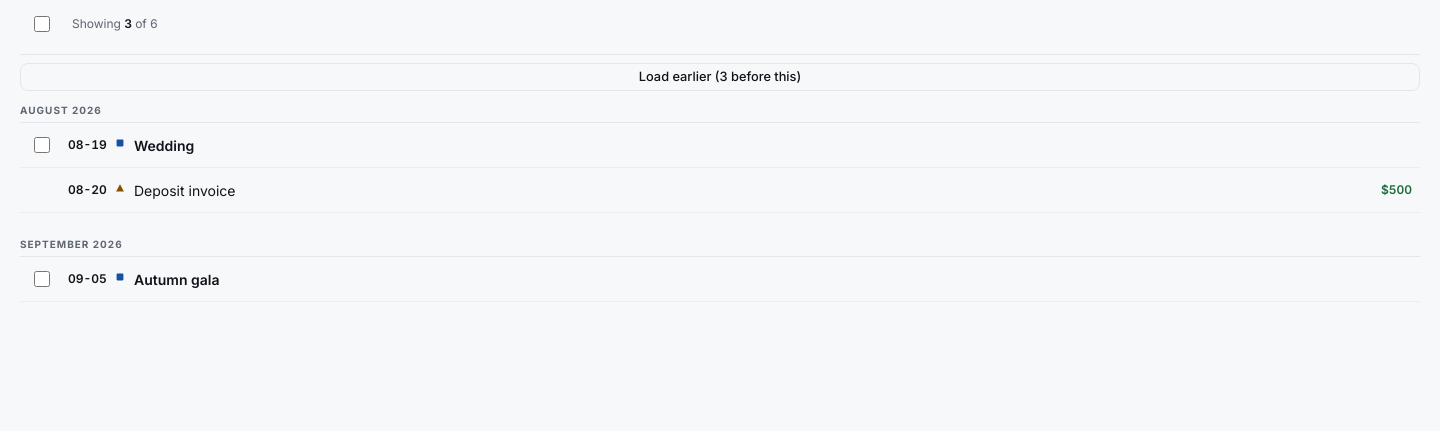
AgendaView — multi-select › pre-fills the target day and warns about what is already booked there
Click the checkbox named "select autumn gala" next to "09-05" at point(42, 279), box x1=34 y1=271 x2=50 y2=287
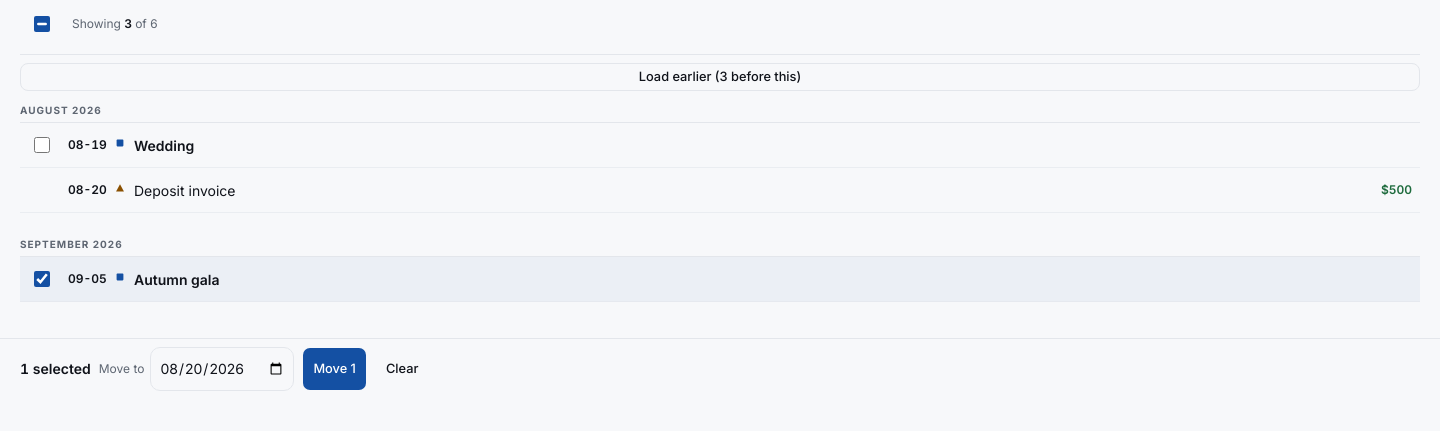
Expected: the date field named "move the selected rows to this day" holds "2026-08-20"
Type "2026-08-19" into the date field named "move the selected rows to this day" at point(222, 369), box x1=150 y1=347 x2=294 y2=391
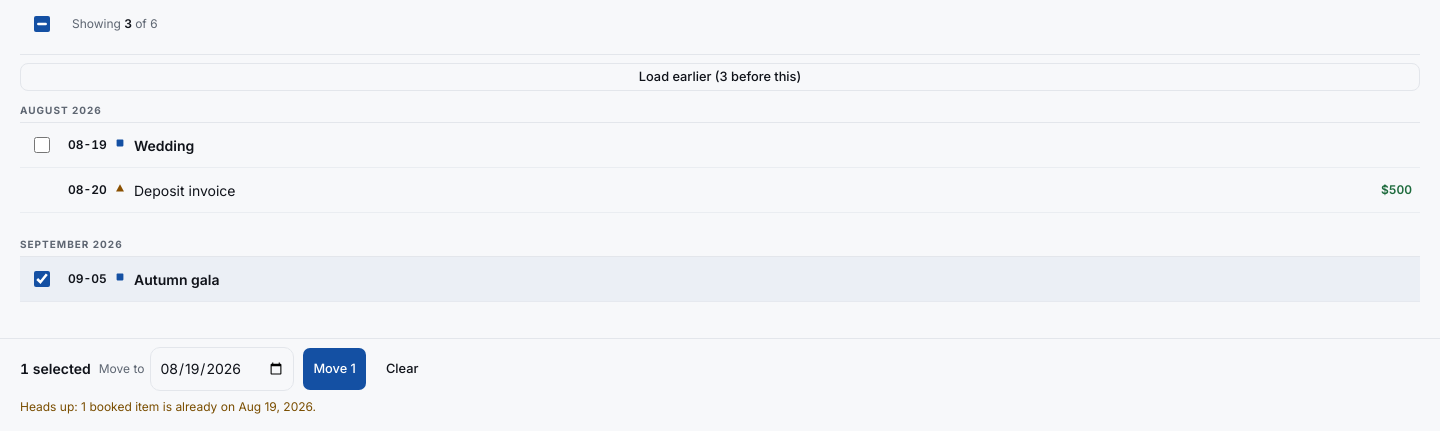
Expected: the text "Heads up: 1 booked item is already on Aug 19, 2026." is shown, x1=20 y1=399 x2=316 y2=414
